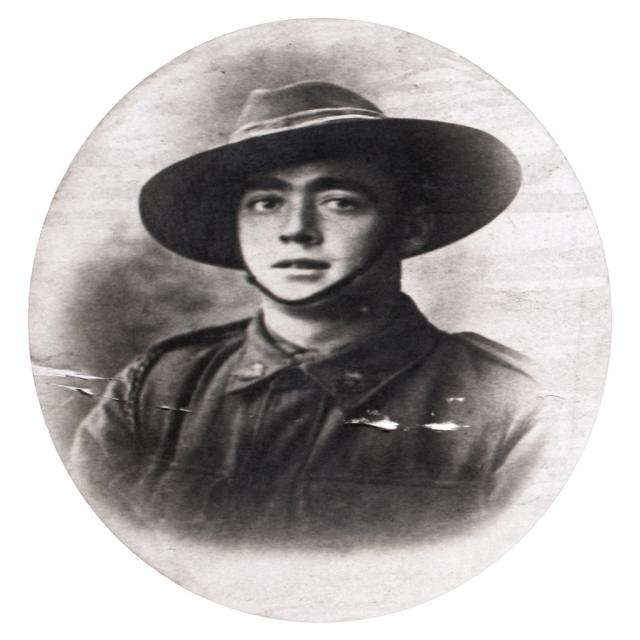Hat: (137, 79, 524, 270)
